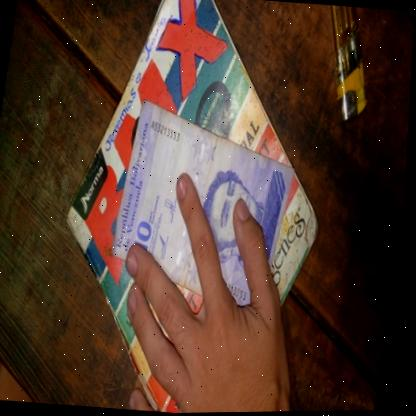ten-front-vef: (106, 97, 304, 317)
